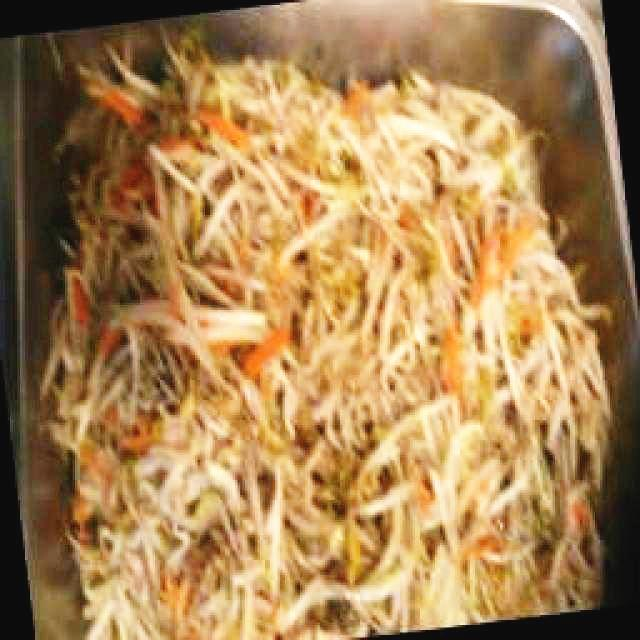mung_bean_sprouts: (45, 38, 602, 635)
